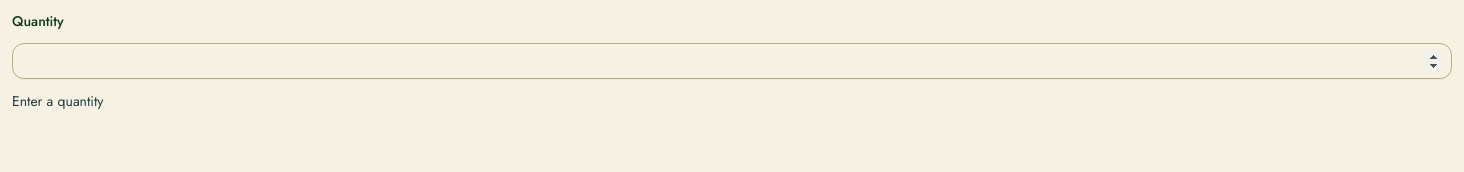
Test: NumberField › shows error when value is not a multiple of 0.1
This screenshot has width=1464, height=172.
Type "10.52" into the number field labelled "Quantity". click: (732, 61)
box: [12,43,1452,79]
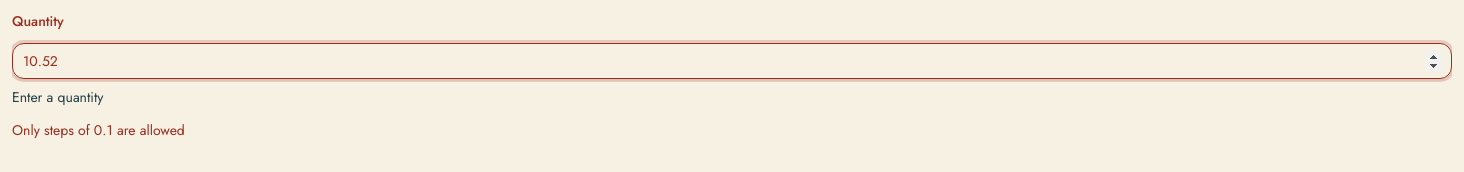
Expected: the text "Only steps of 0.1 are allowed" is shown, [12,120,185,140]
Replace the text in the number field labelled "Quantity" with "10.0". click: (732, 61)
box: [12,43,1452,79]
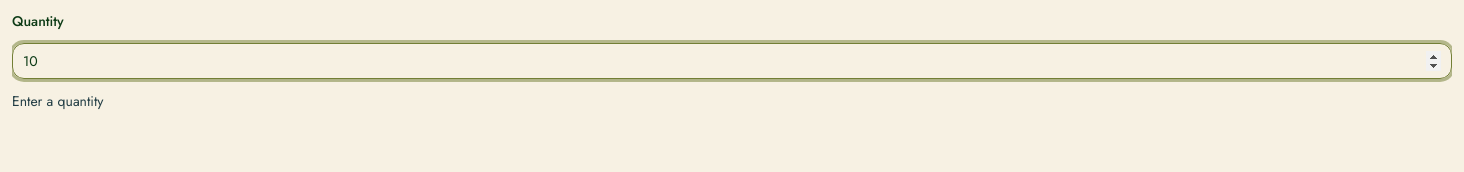
Expected: the number field labelled "Quantity" holds "10", [12,43,1452,79]
